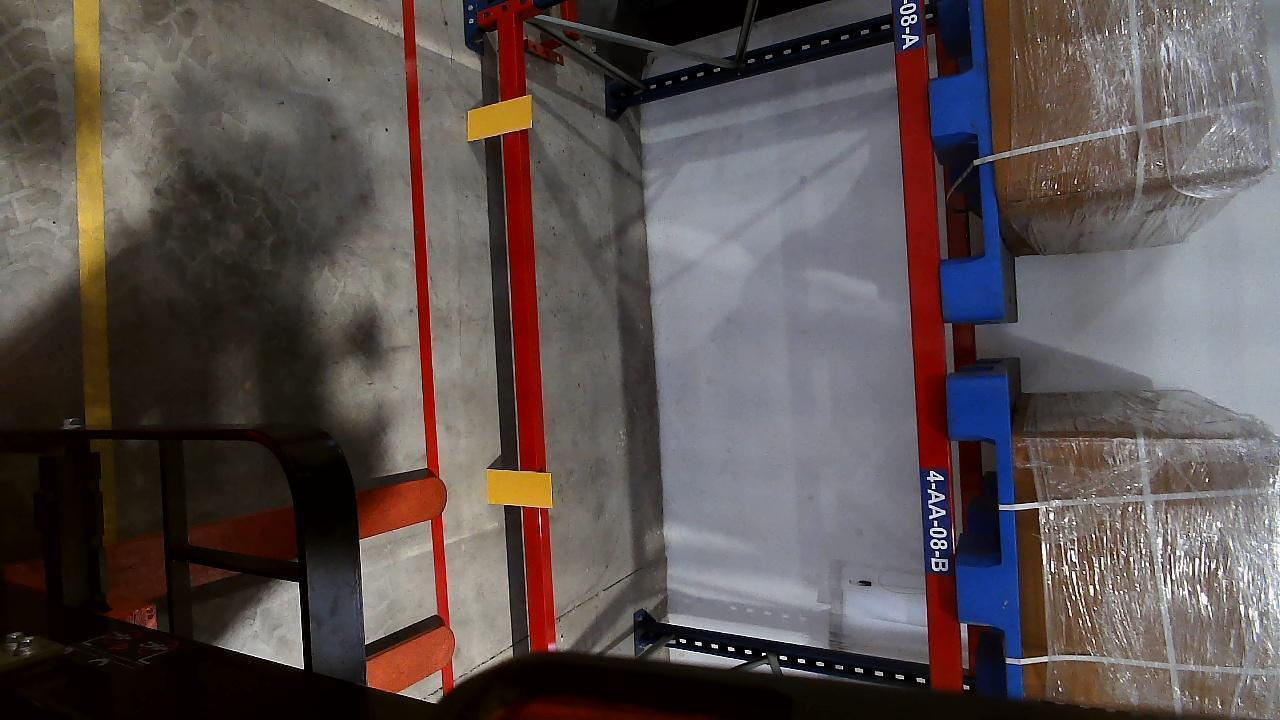red_line: (400, 1, 438, 457)
yellow_line: (71, 0, 109, 424)
